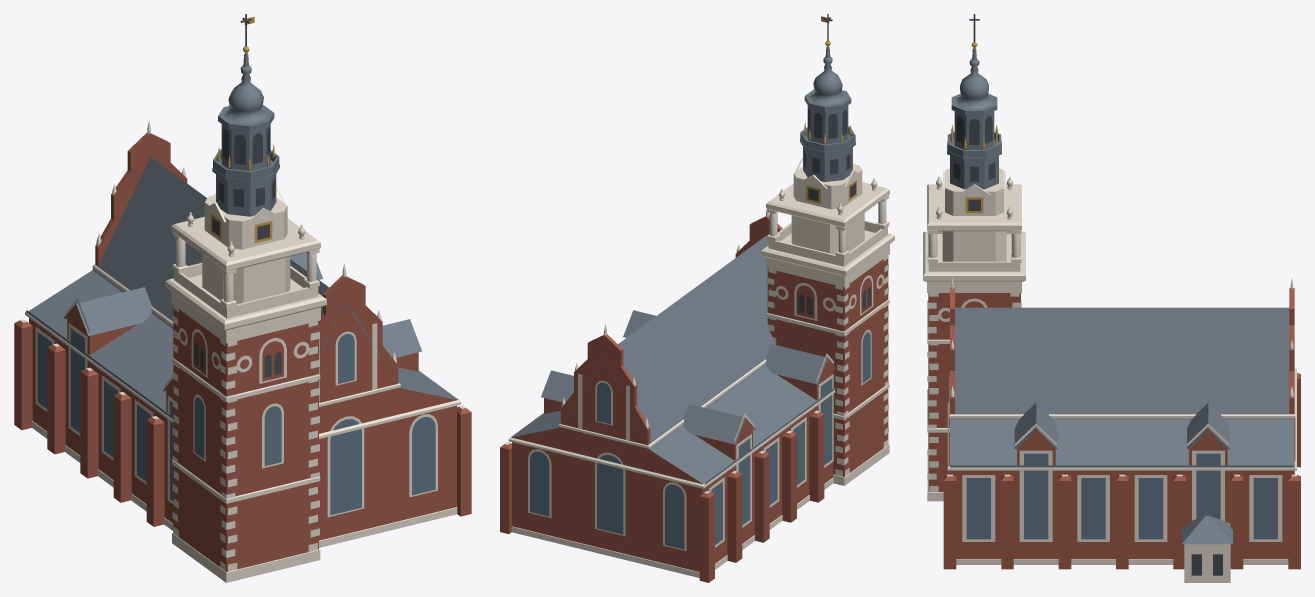
File: amsterdam-zuiderkerk.glb
3 renders of one model, left to right at view 1: azimuth 30°, elevation 25°; view 2: azimuth 150°, elevation 25°; view 3: azimuth 270°, elevation 25°, orthographic. The views are drawn at different scales.
Visible parts, largest first — view 1: Zuiderkerk; view 2: Zuiderkerk; view 3: Zuiderkerk.
Part boxes in pixels (<box>): Zuiderkerk: <box>14,14,471,582</box>; Zuiderkerk: <box>500,14,894,582</box>; Zuiderkerk: <box>923,14,1300,582</box>.
Bounding box in the file's own units: 34.95 × 61.2 × 44.85.
